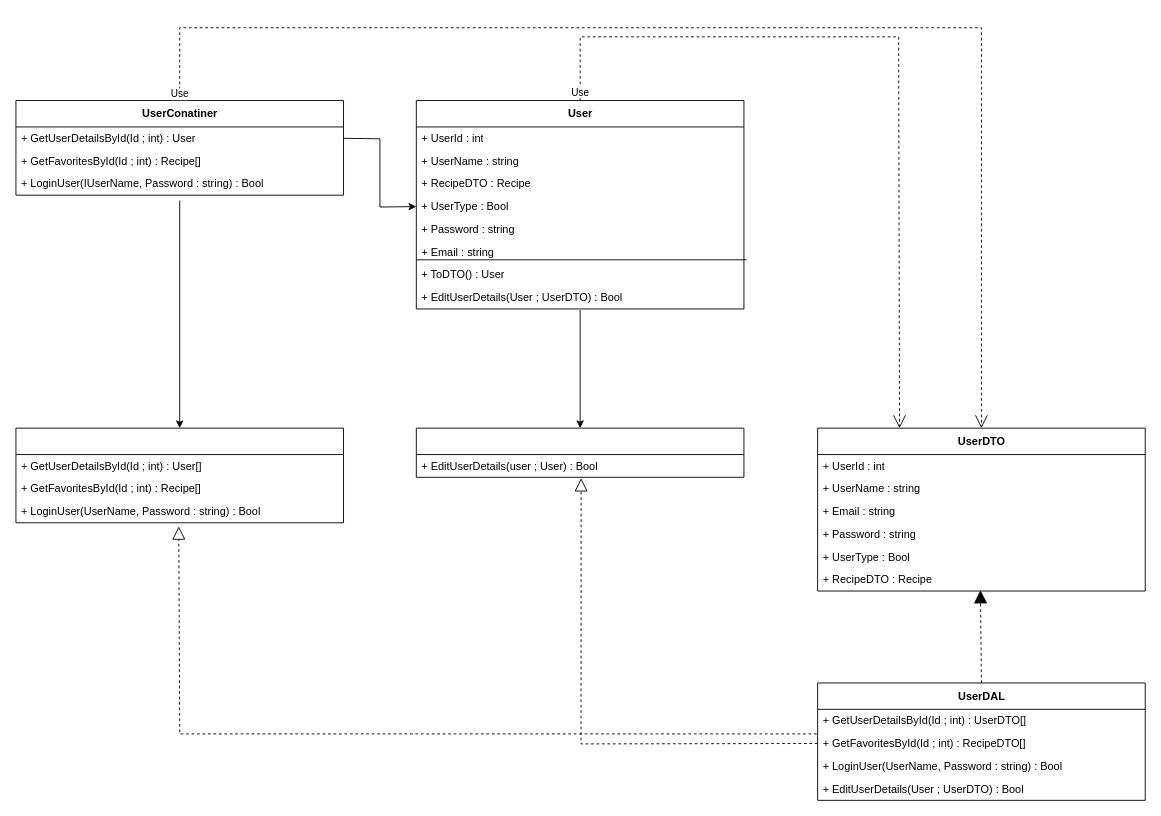
This 1161x816 diagram has some shape labels left out. The box of each missing label's shape, as (x1, y1, x2, y2) in pixels:
IUser: (415, 427, 744, 477)
IUserContainer: (15, 427, 344, 523)
